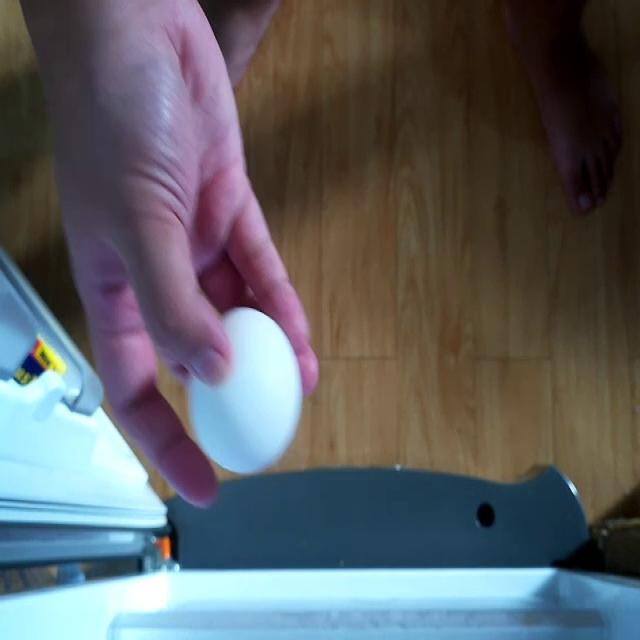egg: (180, 302, 308, 479)
